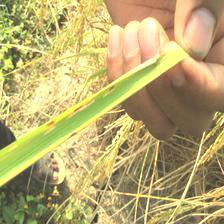0 BrownSpot: (69, 99, 96, 111), (104, 80, 118, 92), (45, 117, 56, 126)
